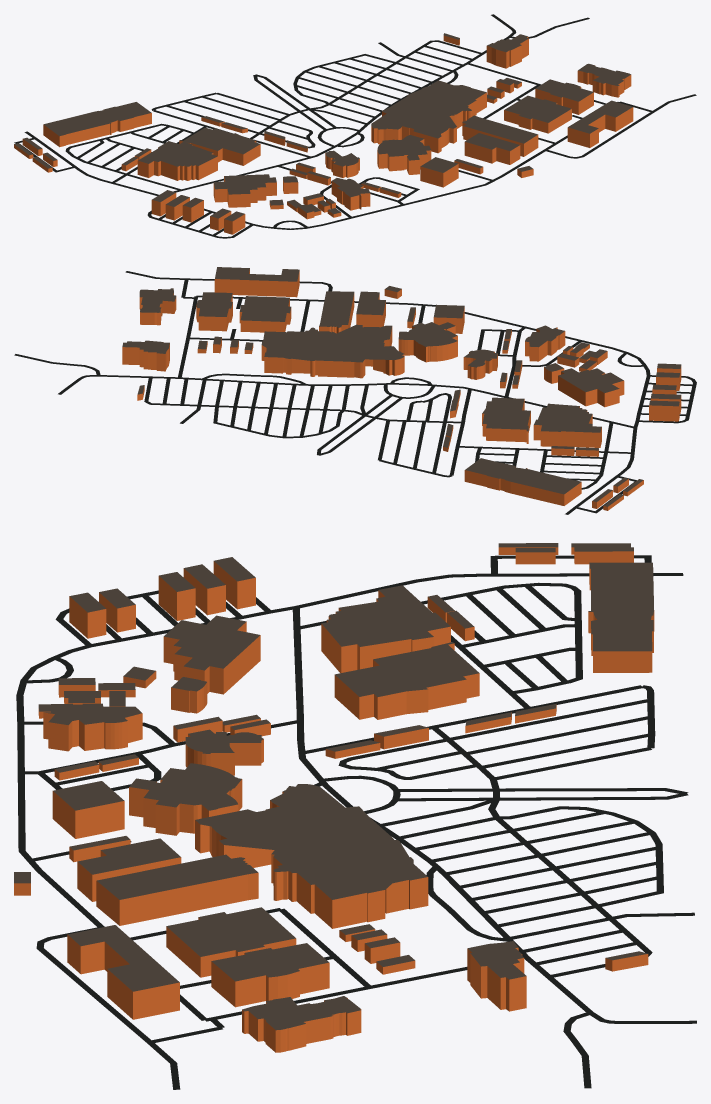
File: mapOutline.obj
3 views of the same model, one above another, from view 1: azimuth 30°, elevation 25°; view 2: azimuth 150°, elevation 25°; view 3: azimuth 270°, elevation 25° (orthographic). The views are drawn at different scales.
Parts seen in each view (by area): view 1: map_2.osm_buildings, map_2.osm_roads_service; view 2: map_2.osm_buildings, map_2.osm_roads_service; view 3: map_2.osm_buildings, map_2.osm_roads_service.
Boxes of the visible parts, x1=… form: map_2.osm_buildings: x1=14, y1=33, x2=633, y2=234; map_2.osm_roads_service: x1=14, y1=14, x2=696, y2=238; map_2.osm_buildings: x1=122, y1=267, x2=681, y2=510; map_2.osm_roads_service: x1=14, y1=271, x2=696, y2=514; map_2.osm_buildings: x1=14, y1=543, x2=654, y2=1052; map_2.osm_roads_service: x1=16, y1=555, x2=696, y2=1089.
Bounding box in the file's own units: 713 × 19.76 × 382.
